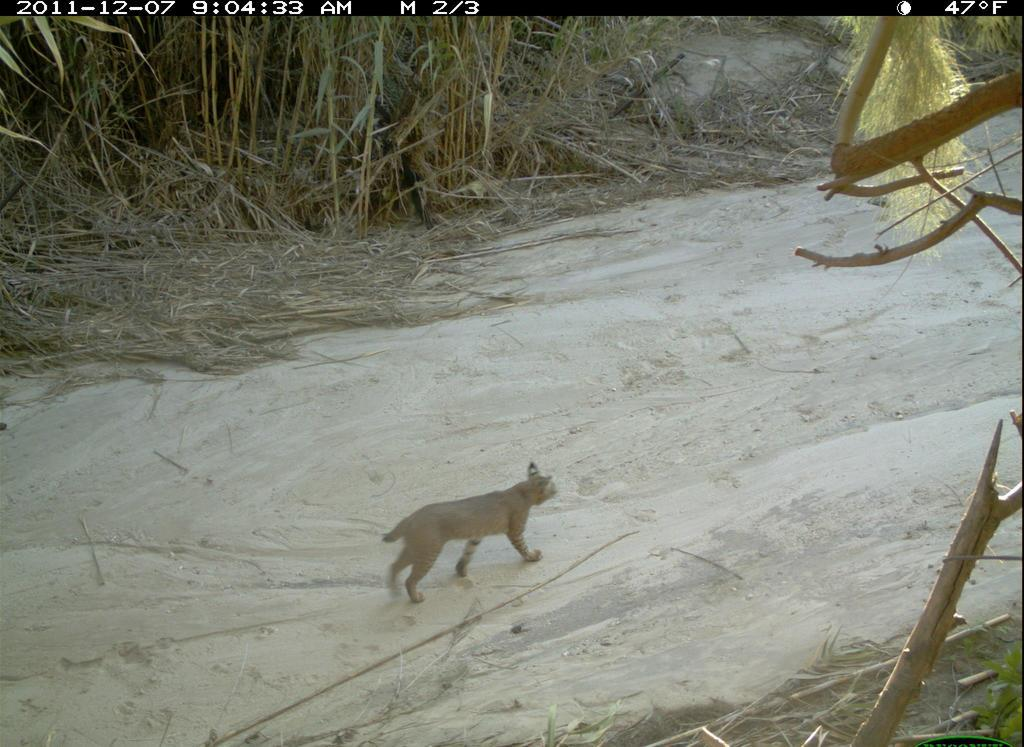bobcat: (363, 456, 585, 623)
